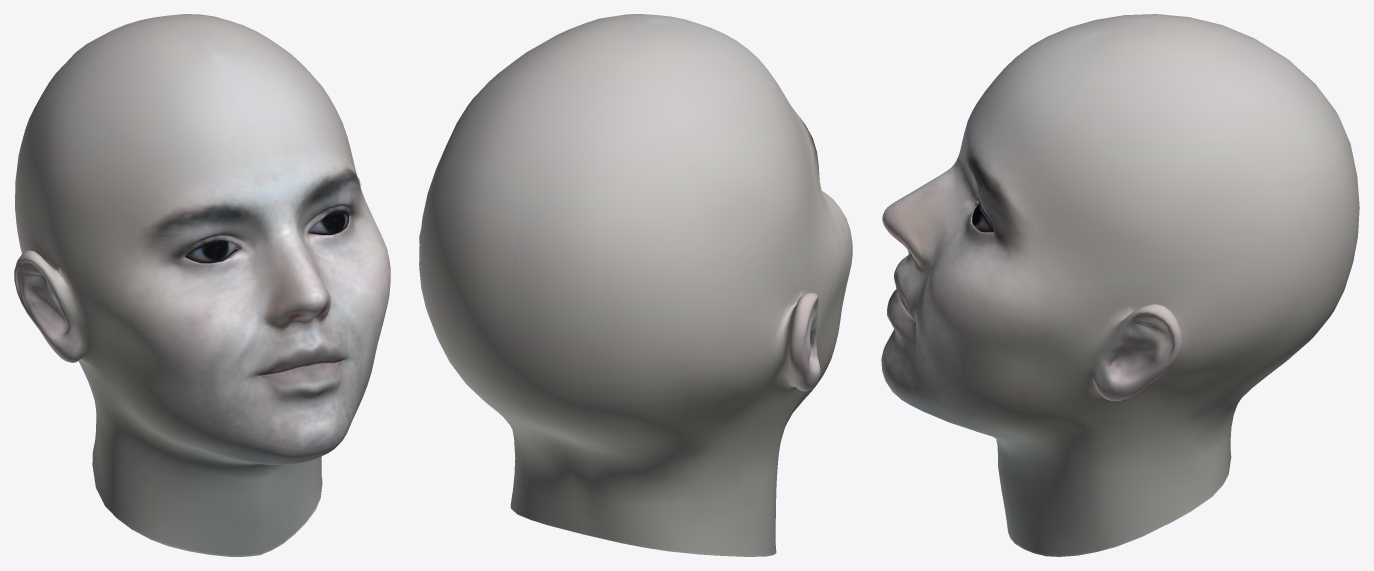
3 renders of one model, left to right at view 1: azimuth 30°, elevation 25°; view 2: azimuth 150°, elevation 25°; view 3: azimuth 270°, elevation 25°, orthographic. The views are drawn at different scales.
Parts seen in each view (by area): view 1: skin_hi, eyeR_hi, eyeL_hi; view 2: skin_hi; view 3: skin_hi.
Boxes of the visible parts, x1=… form: skin_hi: x1=14, y1=14, x2=390, y2=556; eyeR_hi: x1=185, y1=240, x2=238, y2=263; eyeL_hi: x1=308, y1=210, x2=348, y2=234; skin_hi: x1=419, y1=14, x2=852, y2=556; skin_hi: x1=881, y1=14, x2=1359, y2=556.
Bounding box in the file's own units: 206 × 279 × 240.
